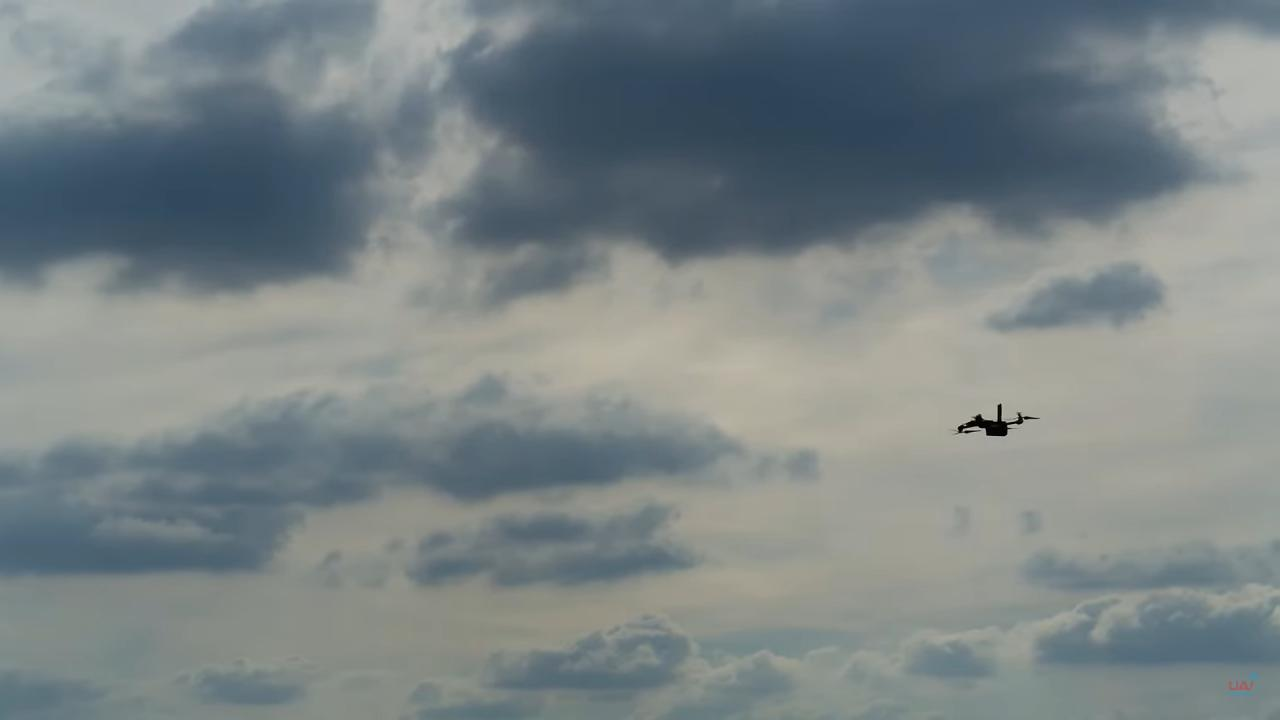Drone: (937, 392, 1053, 452)
